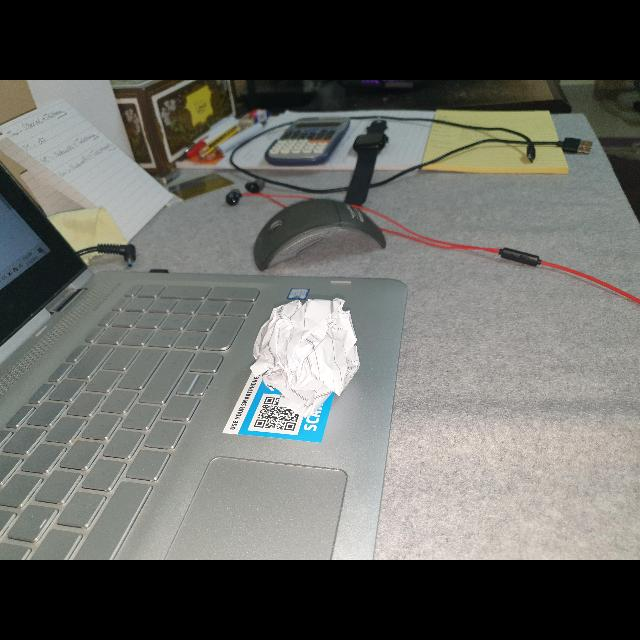scrap_paper: (241, 288, 367, 422)
